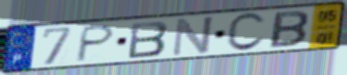7: (41, 25, 74, 67)
B: (127, 19, 171, 60), (267, 10, 311, 50)
C: (224, 11, 268, 53)
N: (169, 15, 216, 59)
P: (74, 24, 118, 64)
